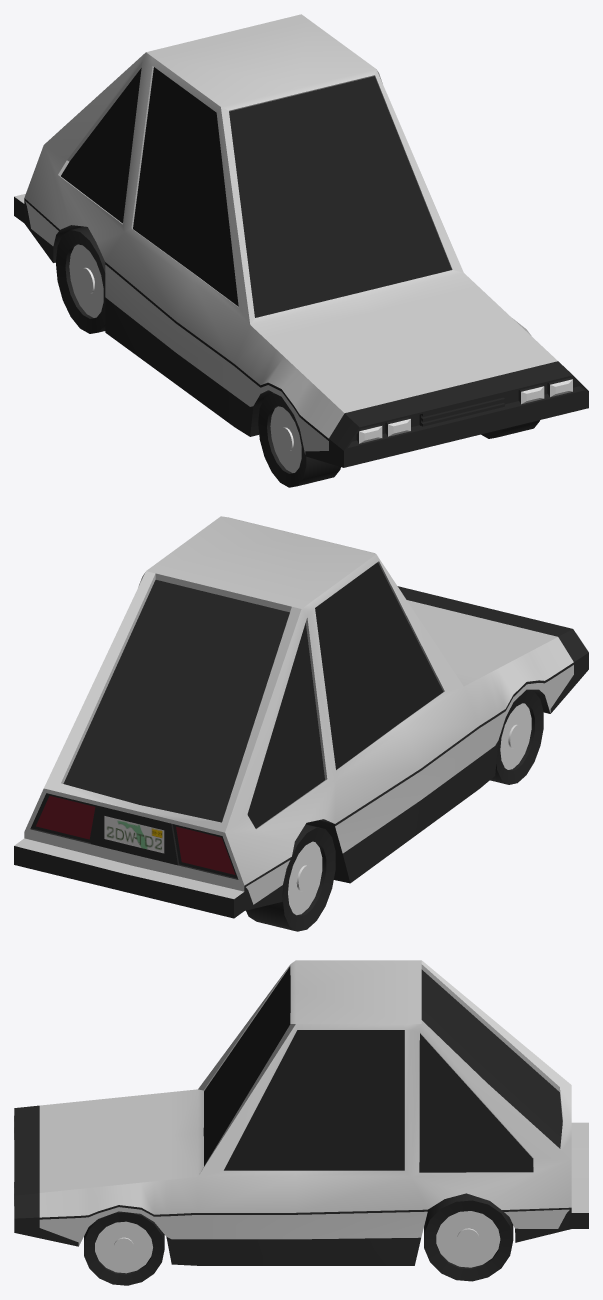
File: DMC-12 sTYLISEDDrivable.fbx
3 renders of one model, top to bottom at view 1: azimuth 30°, elevation 25°; view 2: azimuth 150°, elevation 25°; view 3: azimuth 270°, elevation 25°, orthographic. The views are drawn at different scales.
Parts seen in each view (by area): view 1: Car body, backtire(left), fronttire(left); view 2: Car body, backtire(left), fronttire(left); view 3: Car body, Backtire(right), fronttire(right).
Part boxes in pixels (x1=…): Car body: x1=14, y1=14, x2=588, y2=467; backtire(left): x1=55, y1=226, x2=105, y2=333; fronttire(left): x1=258, y1=392, x2=340, y2=487; Car body: x1=14, y1=516, x2=588, y2=918; backtire(left): x1=246, y1=824, x2=335, y2=931; fronttire(left): x1=490, y1=690, x2=543, y2=784; Car body: x1=14, y1=960, x2=588, y2=1265; Backtire(right): x1=424, y1=1193, x2=513, y2=1281; fronttire(right): x1=84, y1=1211, x2=164, y2=1285.
Size of the model in its own units: 113 by 273 by 129.
